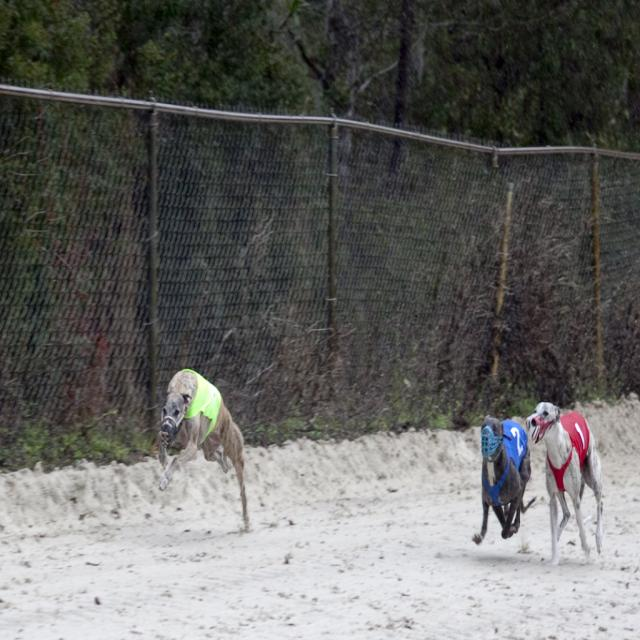Dog: (157, 367, 250, 530), (528, 399, 604, 565), (471, 416, 534, 546)
